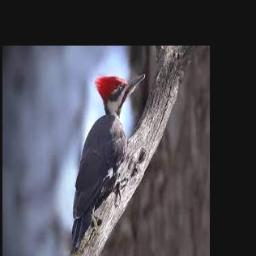Woodpecker: (70, 74, 145, 252)
